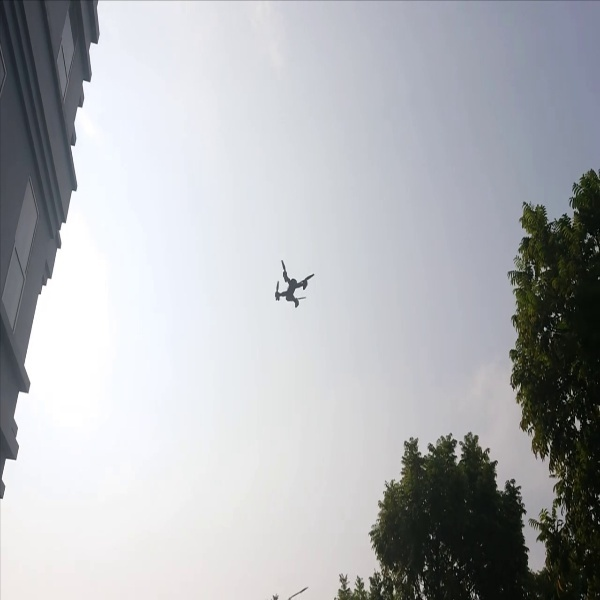drone: (270, 259, 317, 319)
